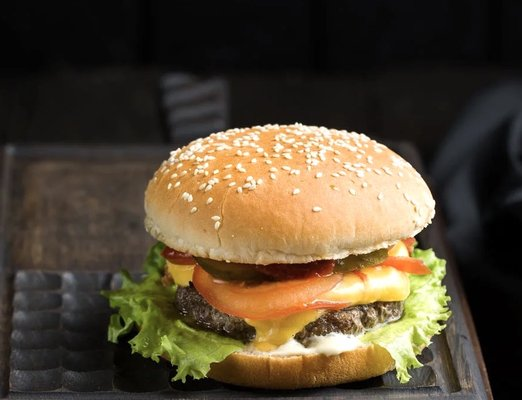soup: (103, 123, 452, 391)
